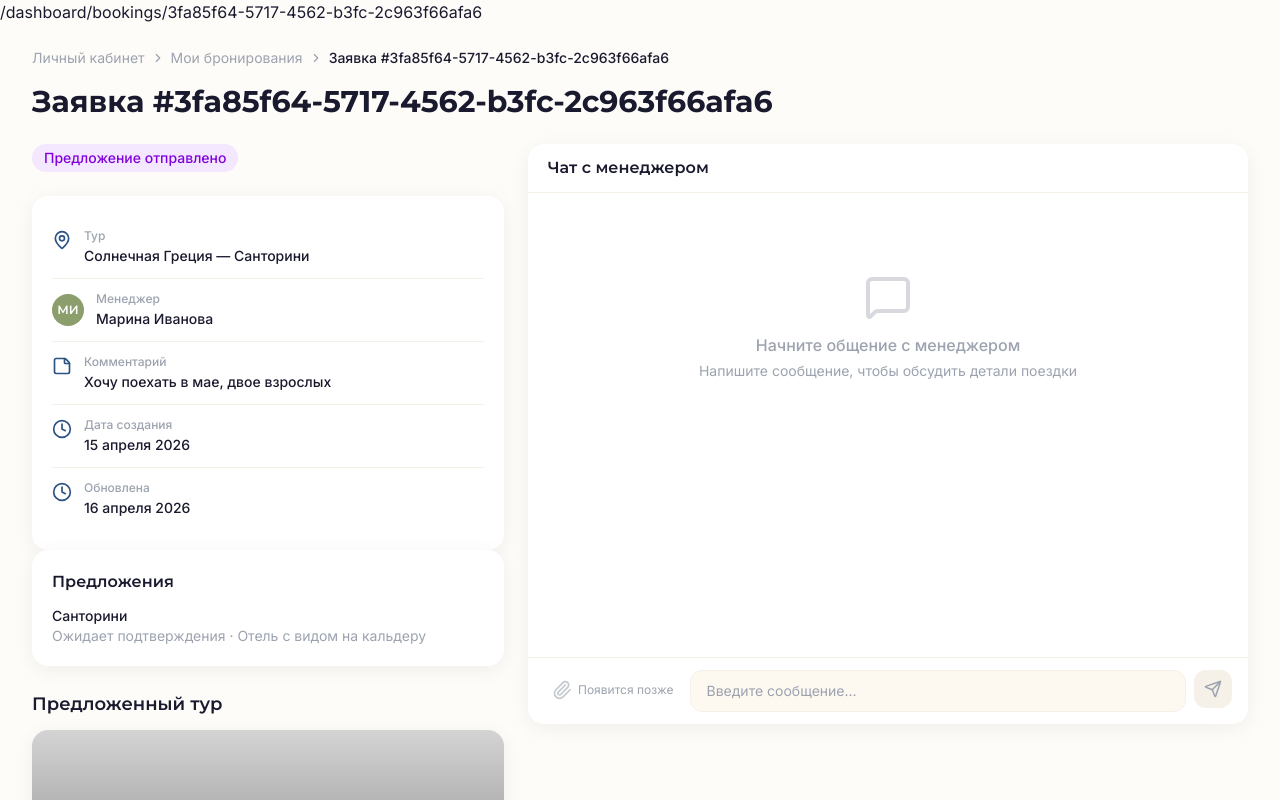
Scenario: manager row on booking pages › упавший предварительный запрос не блокирует заявку
Check: the heading "Заявка #3fa85f64-5717-4562-b3fc-2c963f66afa6" is shown, box [32, 83, 773, 120]
Check: the text "Марина Иванова" is shown, box [96, 310, 213, 327]
What coordinates should you click on to do the following:
click the button "МИ Менеджер Марина Иванова"
I would click on:
 (68, 310)
Its box is [52, 279, 484, 342].
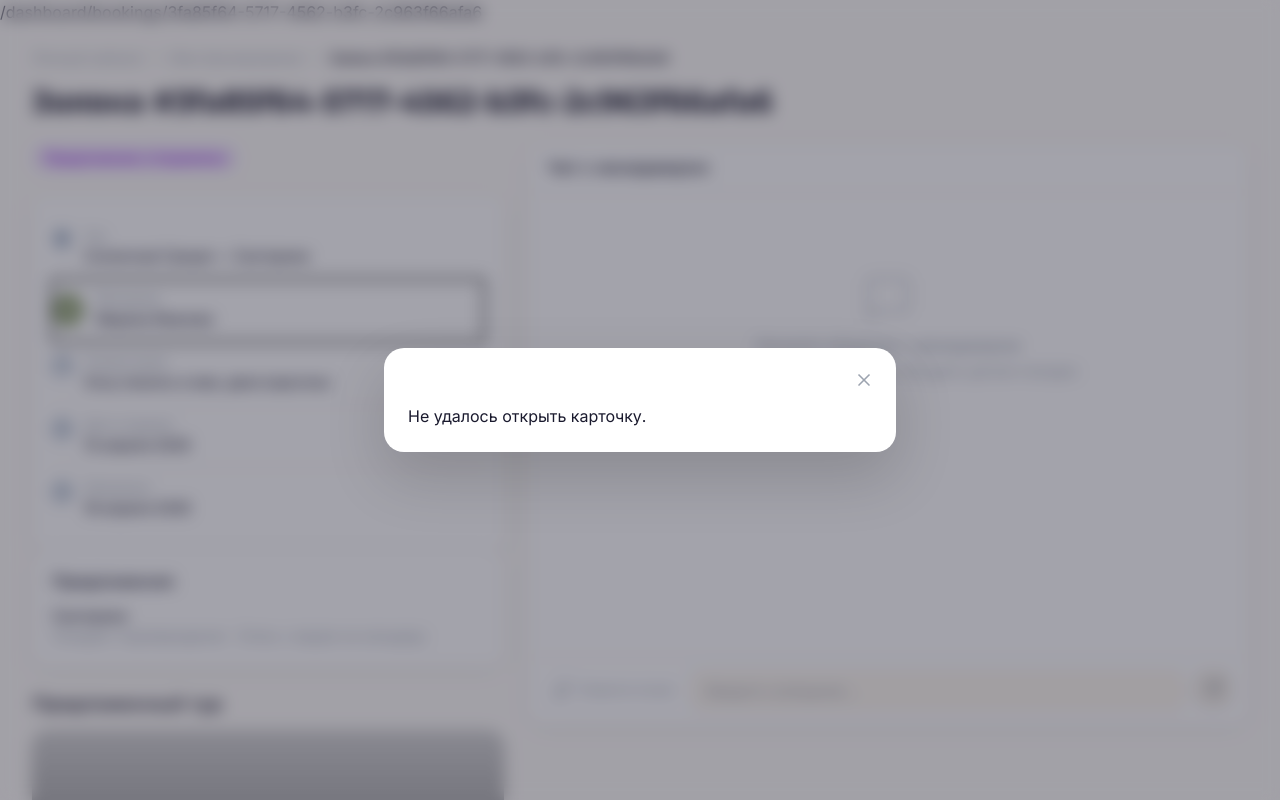
Check: the heading "Заявка #3fa85f64-5717-4562-b3fc-2c963f66afa6" is shown, box [32, 83, 773, 120]
Check: the message reads "Не удалось открыть карточку.", box [408, 406, 646, 426]
